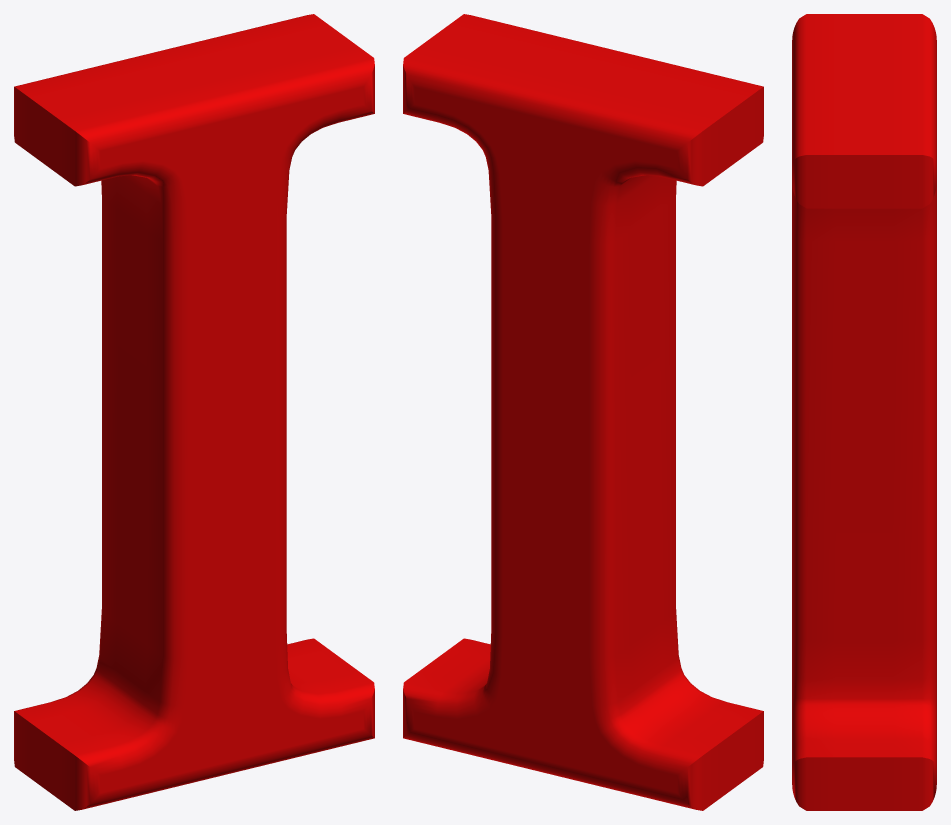
The picture shows the model from 3 angles, left to right: view 1: azimuth 30°, elevation 25°; view 2: azimuth 150°, elevation 25°; view 3: azimuth 270°, elevation 25°; orthographic projection. The views are drawn at different scales.
Parts seen in each view (by area): view 1: I; view 2: I; view 3: I.
Part boxes in pixels (x1,y1,x2,y2): I: [14, 14, 374, 810]; I: [403, 14, 763, 810]; I: [792, 14, 936, 810].
Size of the model in its own units: 5.76 by 12.5 by 2.5.
